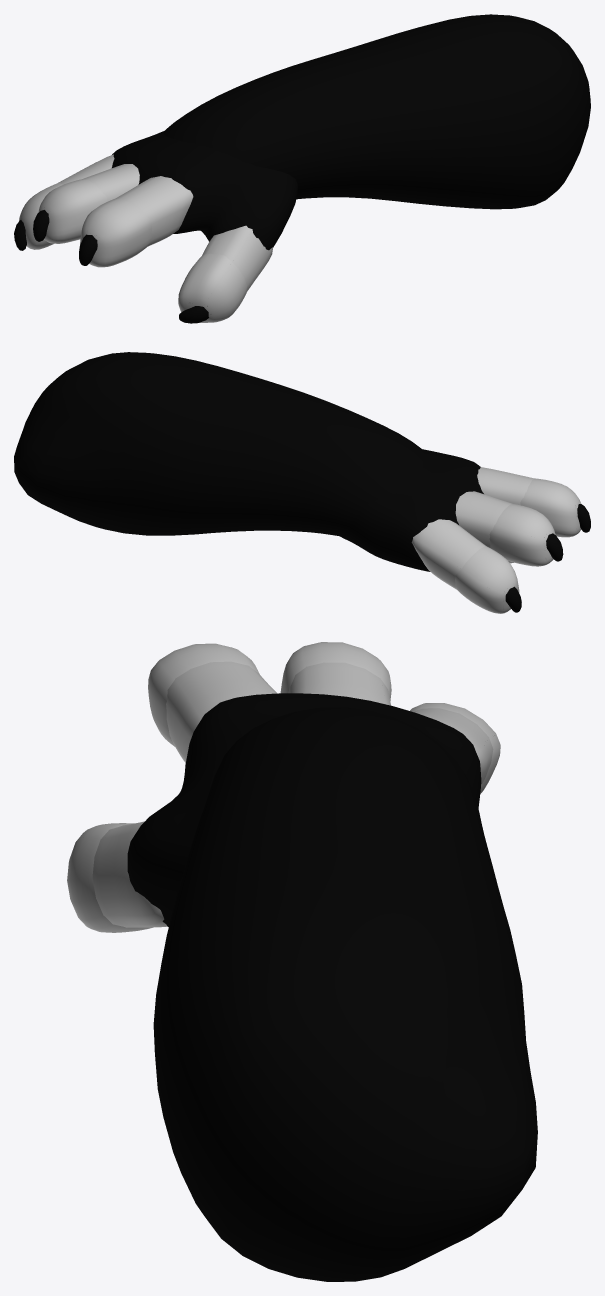
Rendered from Ripped_WildCatHum_2.fbx.
3 renders of one model, top to bottom at view 1: azimuth 30°, elevation 25°; view 2: azimuth 150°, elevation 25°; view 3: azimuth 270°, elevation 25°, orthographic. The views are drawn at different scales.
Parts seen in each view (by area): view 1: Wild Cat Humanoid Base Mesh_hand_r; view 2: Wild Cat Humanoid Base Mesh_hand_r; view 3: Wild Cat Humanoid Base Mesh_hand_r.
Part boxes in pixels (x1,y1,x2,y2): Wild Cat Humanoid Base Mesh_hand_r: (14,14,590,323); Wild Cat Humanoid Base Mesh_hand_r: (14,352,590,613); Wild Cat Humanoid Base Mesh_hand_r: (67,642,537,1281).
Size of the model in its own units: 440 by 137 by 172.
1 material, 1 textured.
